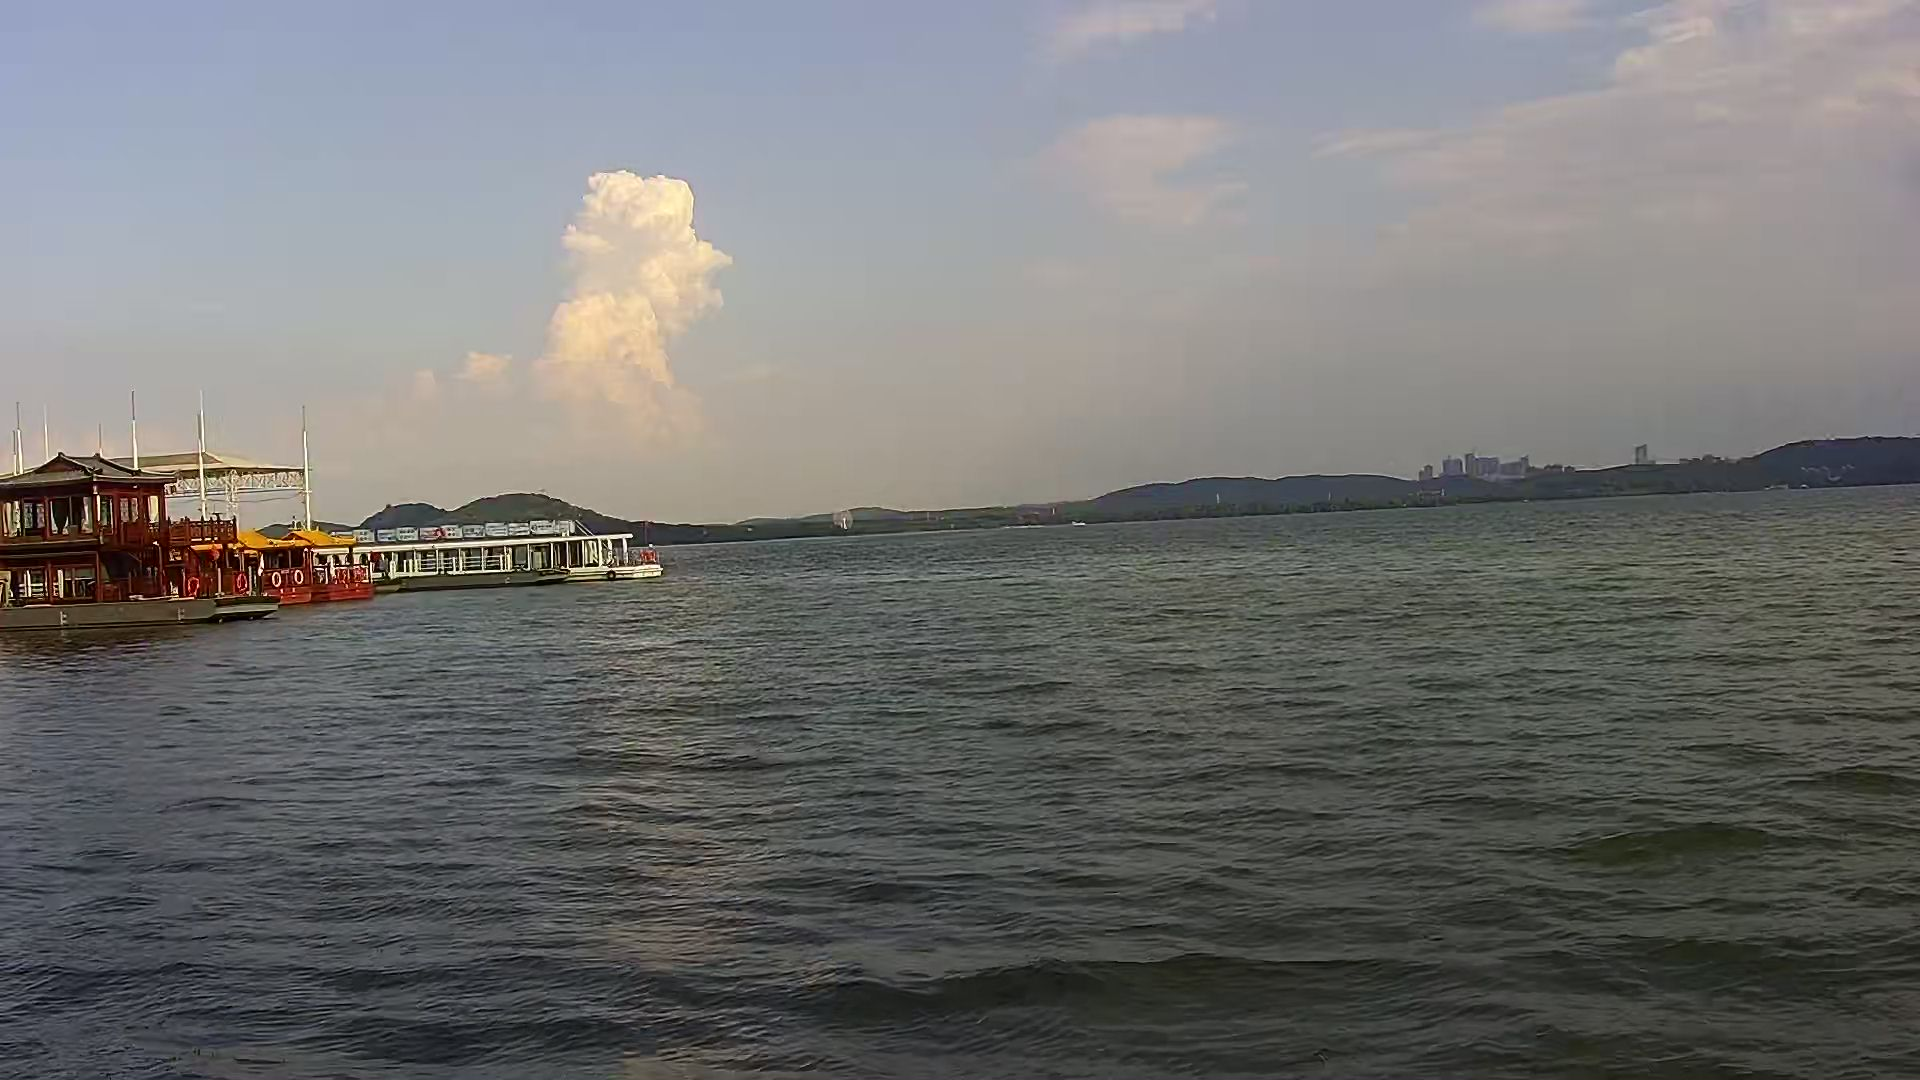boat: (365, 524, 658, 592), (293, 522, 367, 604), (233, 530, 302, 608)
ship: (12, 446, 258, 629)
